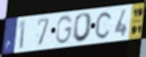1: (17, 19, 27, 51)
4: (114, 7, 128, 38)
7: (36, 17, 51, 47)
C: (94, 10, 114, 40)
G: (55, 14, 74, 45)
O: (72, 11, 94, 43)
